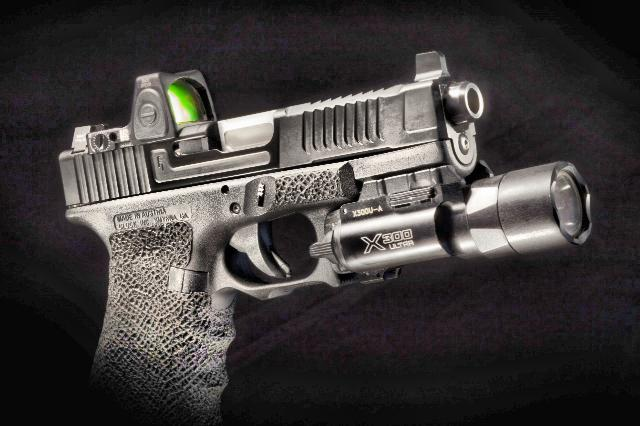pistol: (55, 30, 597, 426)
